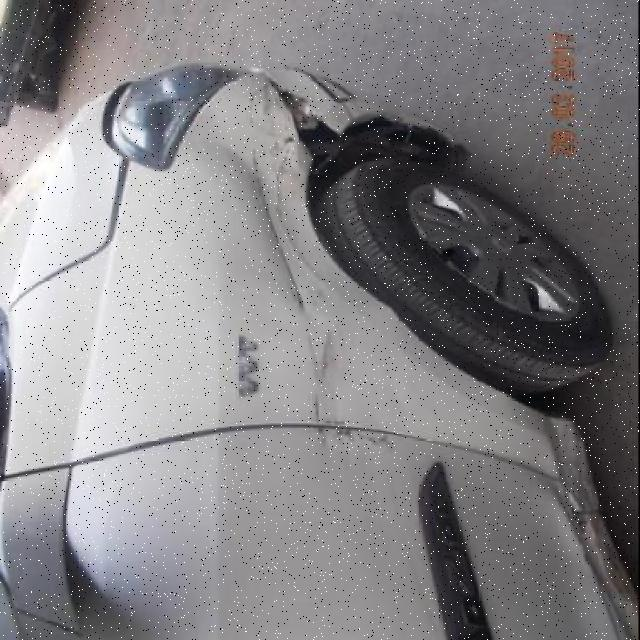damage: (245, 84, 395, 454), (548, 416, 640, 640), (270, 76, 343, 158)
